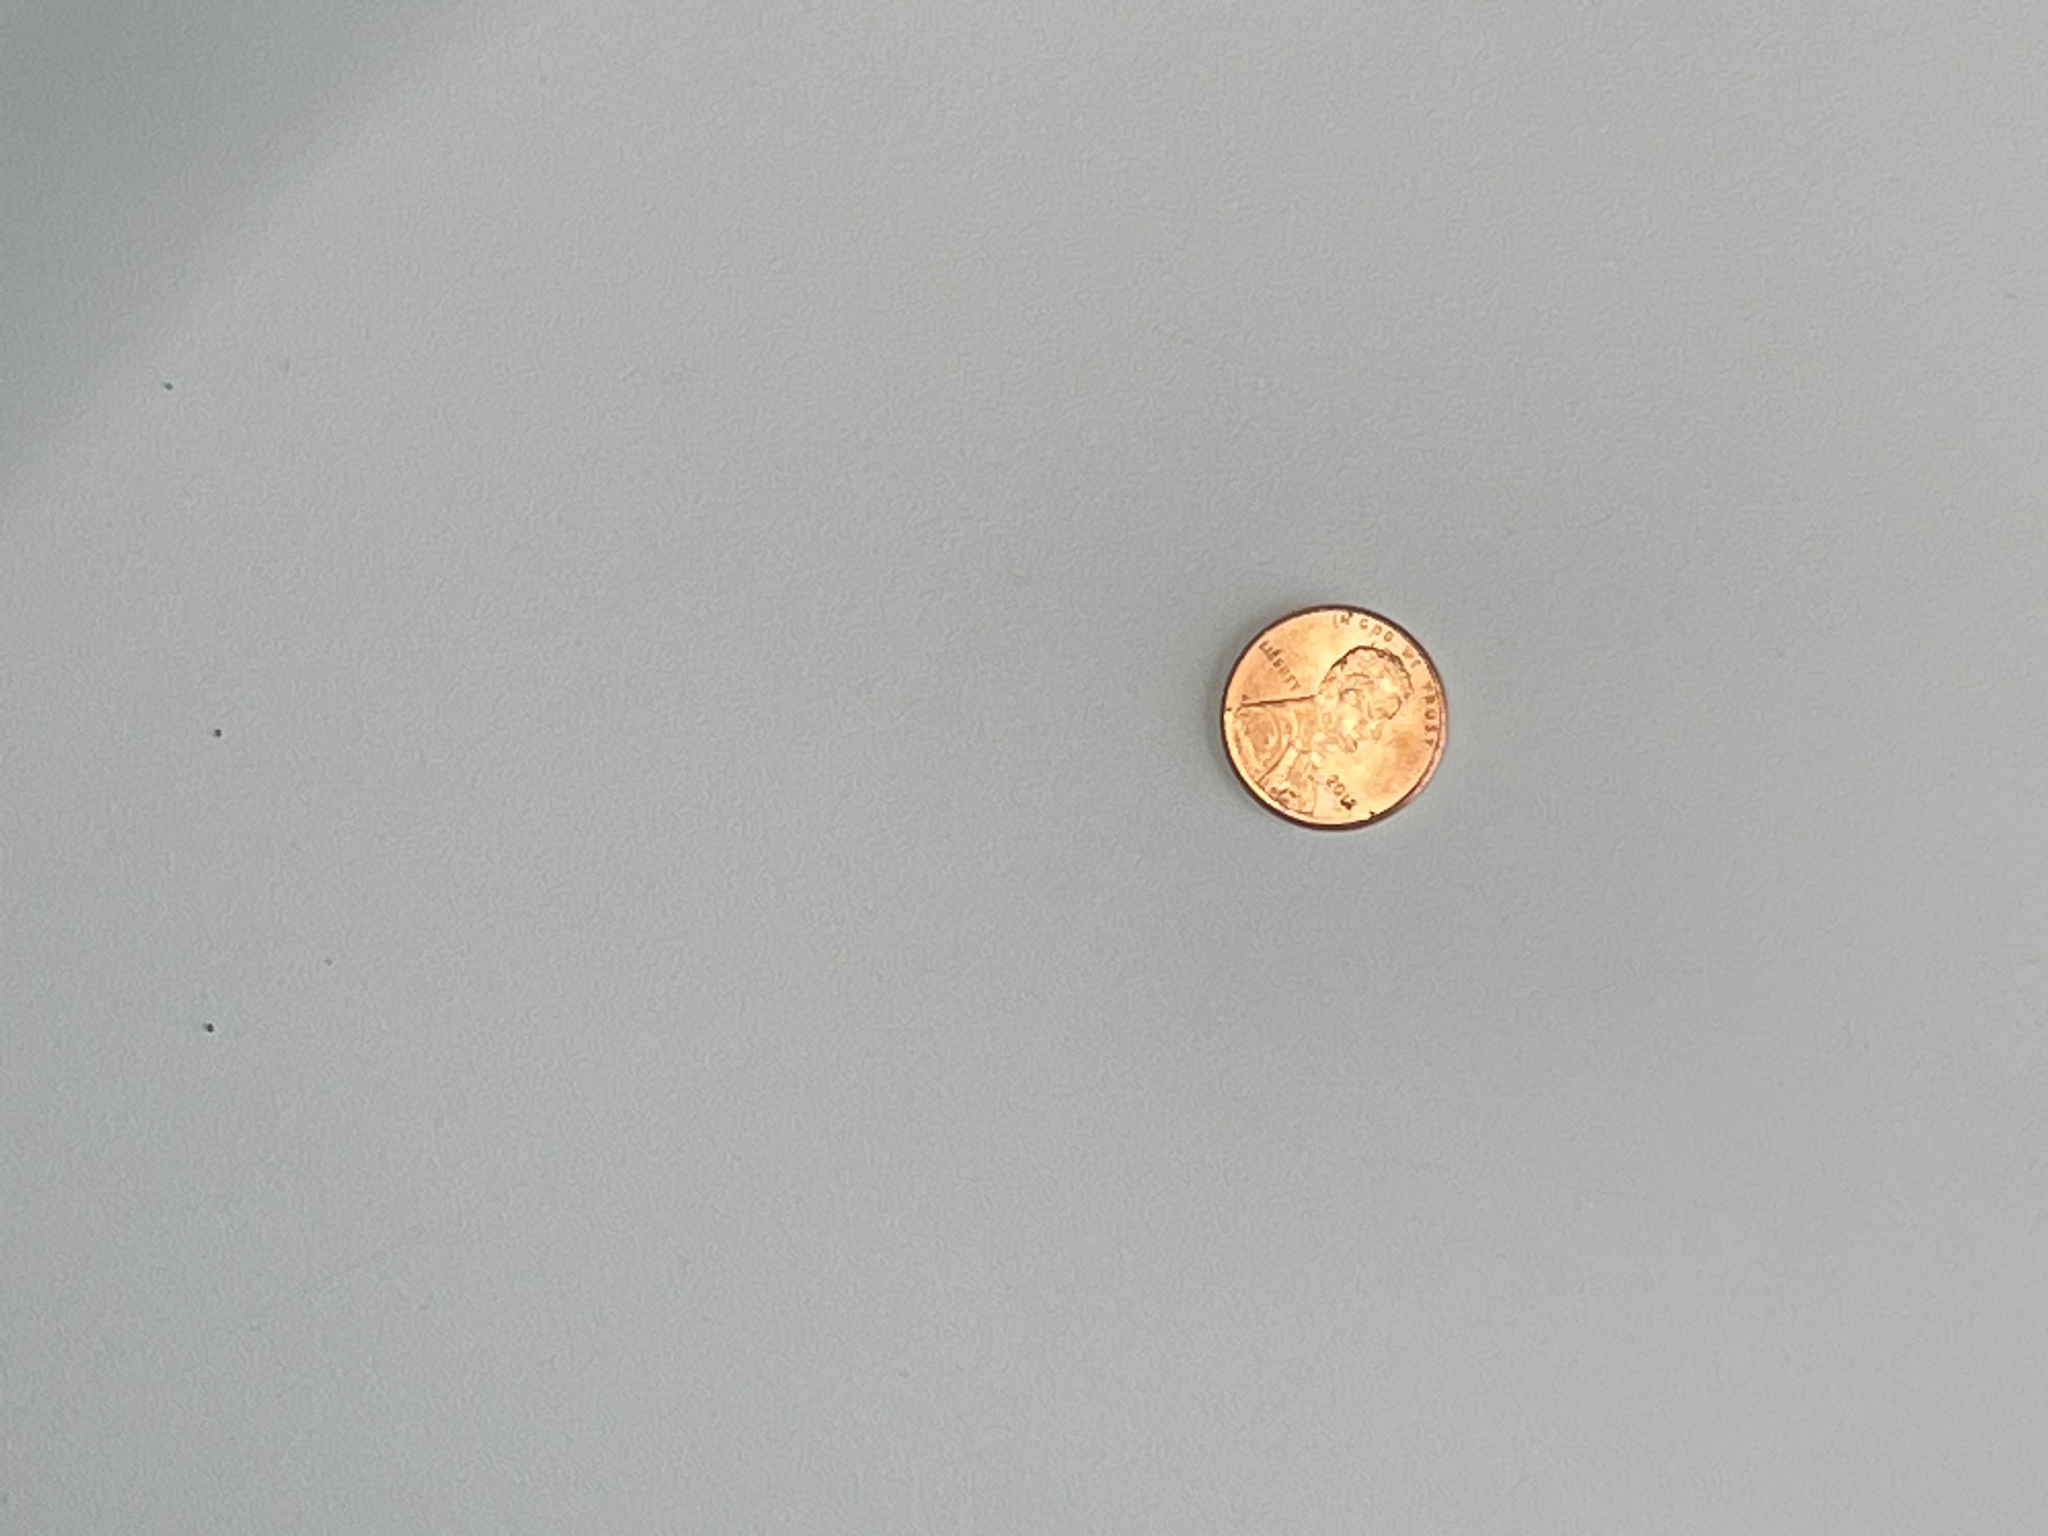penny: (1214, 599, 1456, 837)
